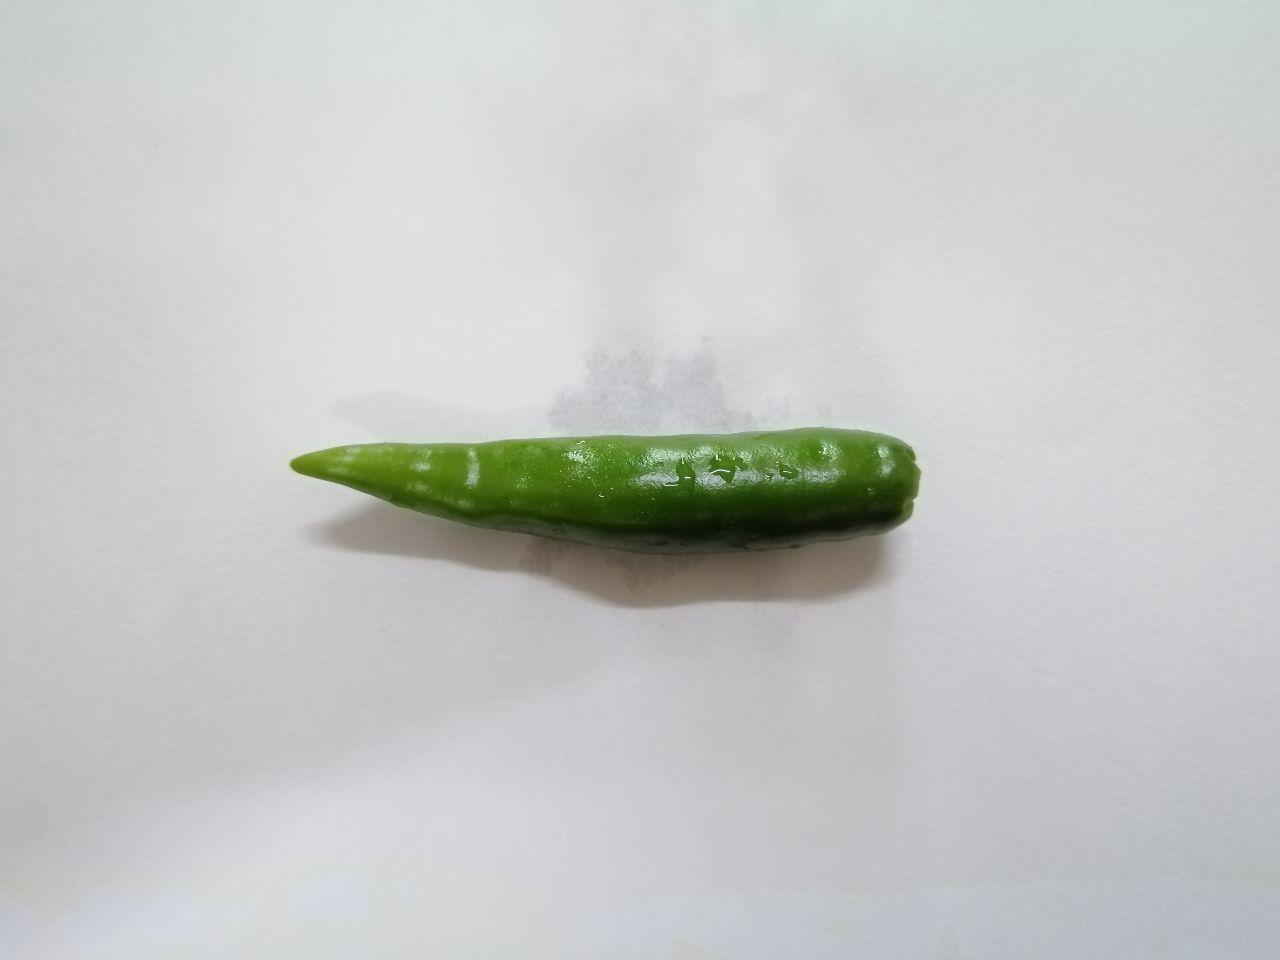lada hijau: (275, 409, 941, 586)
